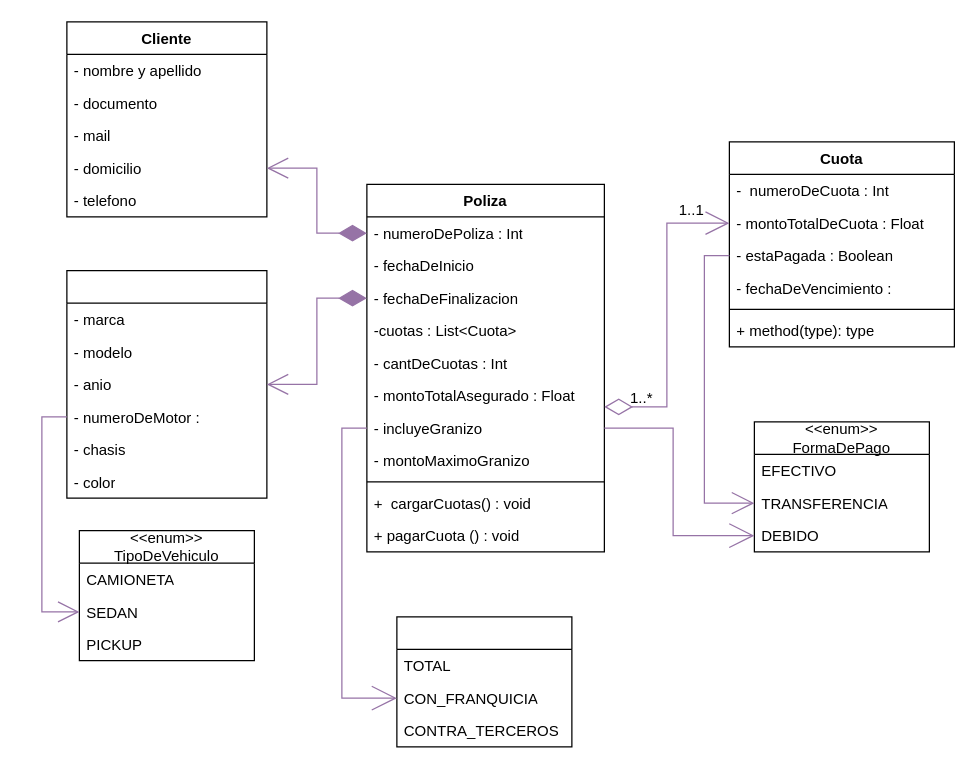
Image size: 976x773. Some labels were removed from this diagram. Each missing label, with the box of its shape:
<<enum>> TipoDeCobertura: (396, 616, 572, 747)
Vehiculo: (66, 269, 267, 498)
